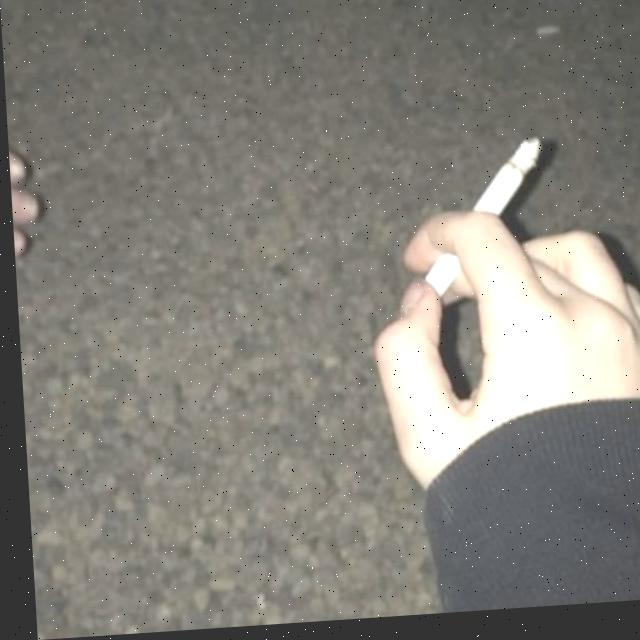cigarette: (413, 144, 546, 305)
